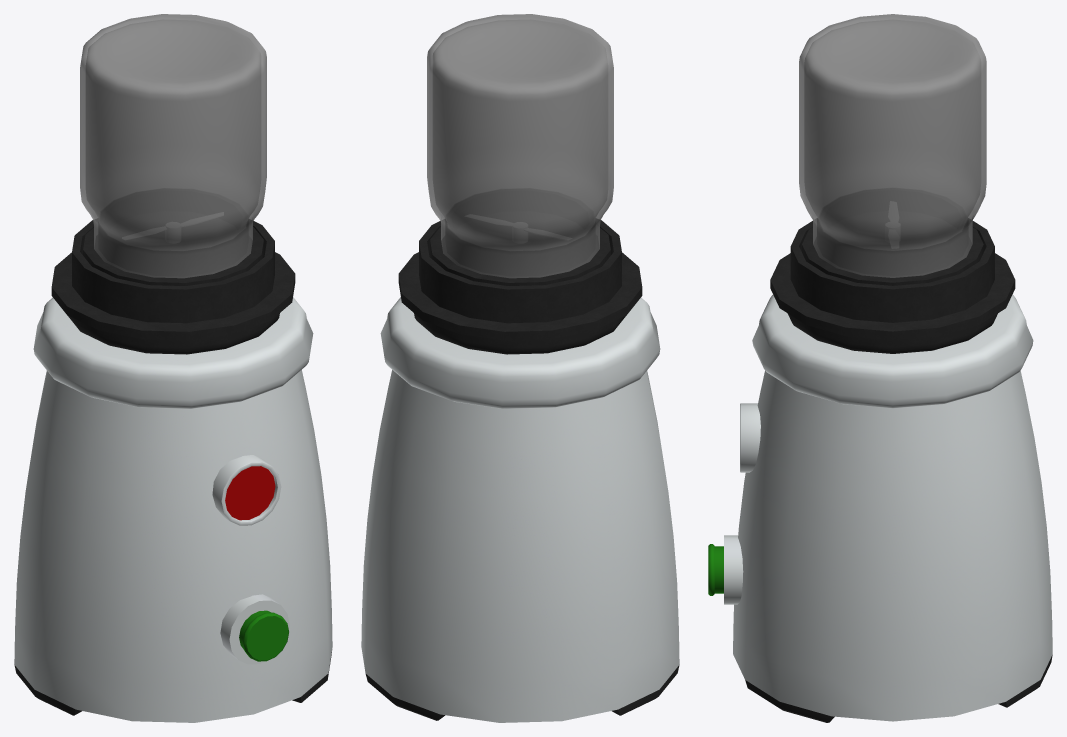
File: SM_组织捣碎机.FBX
The picture shows the model from 3 angles, left to right: view 1: azimuth 30°, elevation 25°; view 2: azimuth 150°, elevation 25°; view 3: azimuth 270°, elevation 25°; orthographic projection.
Visible parts, largest first — view 1: SM_组织捣碎机, SM_组织捣碎机瓶子, SM_组织捣碎机盖, SM_组织捣碎机开关; view 2: SM_组织捣碎机, SM_组织捣碎机瓶子, SM_组织捣碎机盖; view 3: SM_组织捣碎机, SM_组织捣碎机瓶子, SM_组织捣碎机盖, SM_组织捣碎机开关.
Part boxes in pixels (left/top/right/bottom): SM_组织捣碎机: left=14, top=219, right=332, bottom=722; SM_组织捣碎机瓶子: left=80, top=14, right=266, bottom=278; SM_组织捣碎机盖: left=83, top=189, right=263, bottom=285; SM_组织捣碎机开关: left=239, top=610, right=288, bottom=661; SM_组织捣碎机: left=361, top=219, right=679, bottom=722; SM_组织捣碎机瓶子: left=427, top=14, right=613, bottom=278; SM_组织捣碎机盖: left=430, top=189, right=610, bottom=285; SM_组织捣碎机: left=724, top=219, right=1052, bottom=722; SM_组织捣碎机瓶子: left=799, top=14, right=986, bottom=277; SM_组织捣碎机盖: left=802, top=188, right=983, bottom=285; SM_组织捣碎机开关: left=708, top=544, right=723, bottom=595.
Size of the model in its own units: 10.55 by 11.37 by 22.38.
